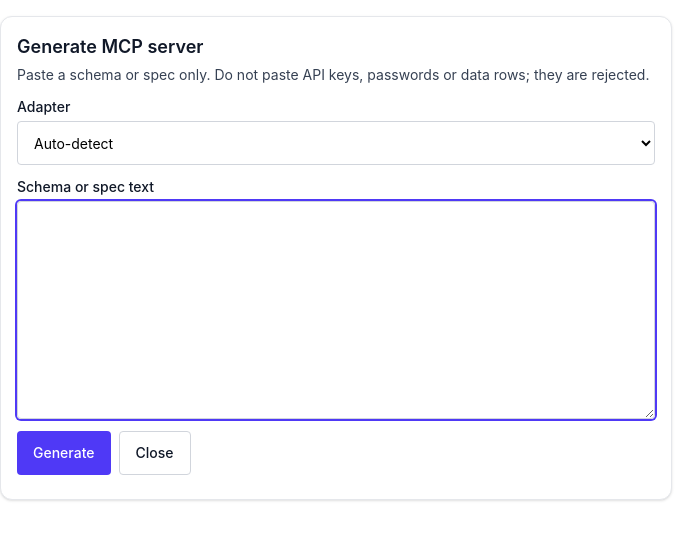
Test: GenerateMcpPanel › handles 404 and network failure
Type "x" into the text box labelled "Schema or spec text".
click(336, 310); type("x")  # box [17,201,655,419]
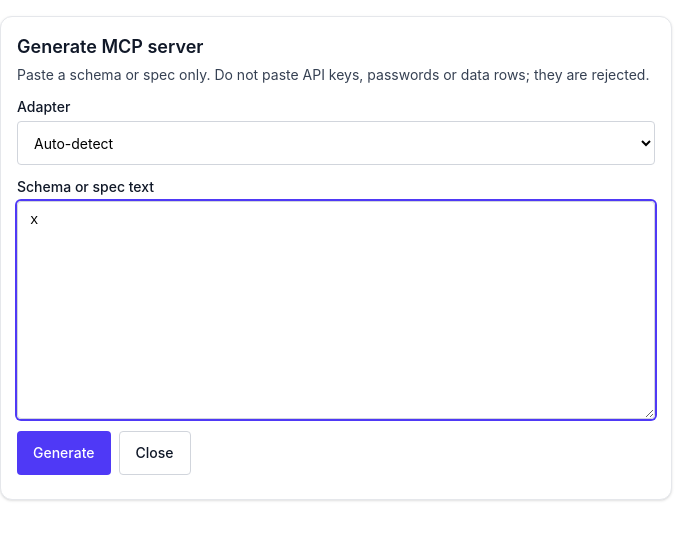
Click the button "Generate".
click(64, 453)  # box [17,431,110,475]
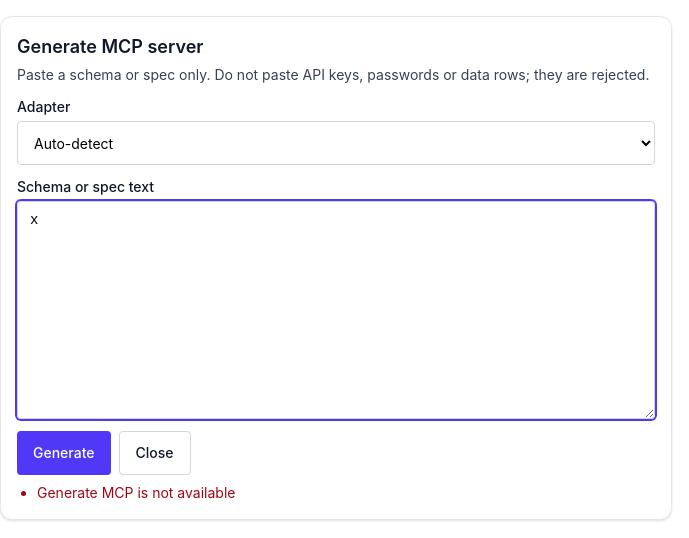
Now the message reads "Generate MCP is not available", box [37,484,236,501]
